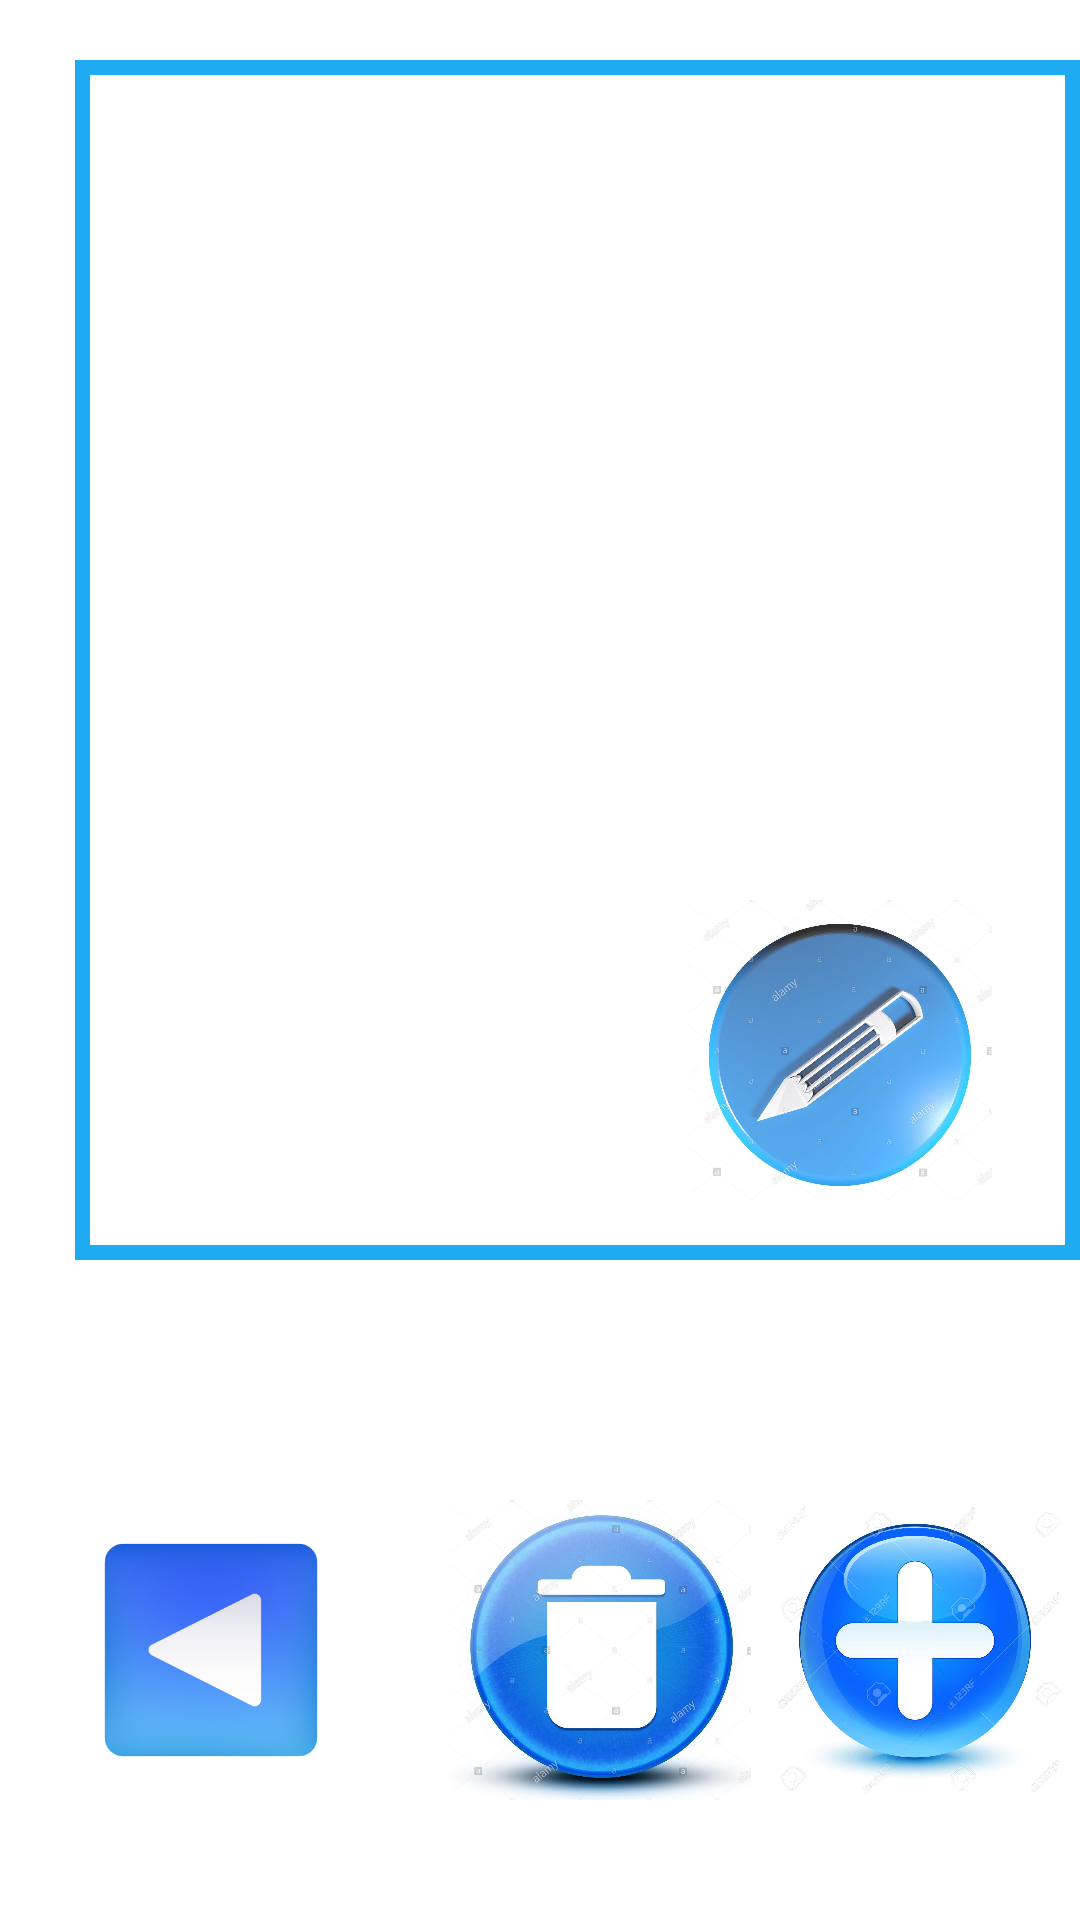

Named icons in this screenshot (1080w x 1920h) and their bounding boxes, (x1, y1, x2, y2):
pencil: (707, 924, 992, 1186)
plus: (750, 1507, 1059, 1792)
